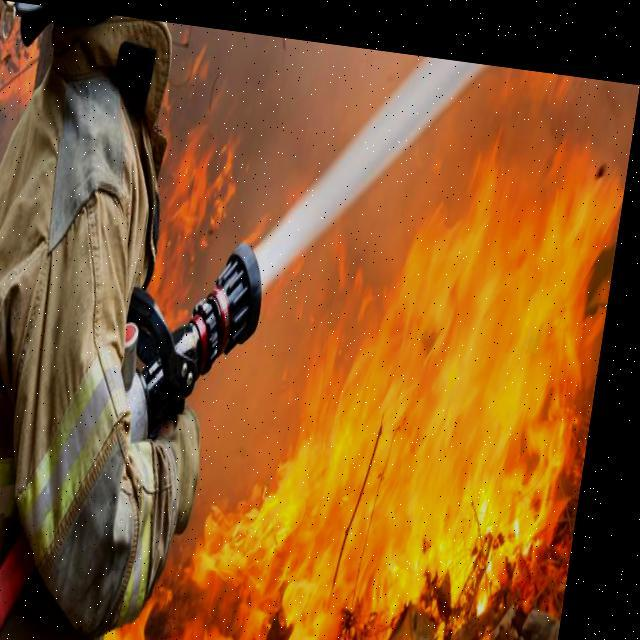Fire: (102, 51, 636, 639)
